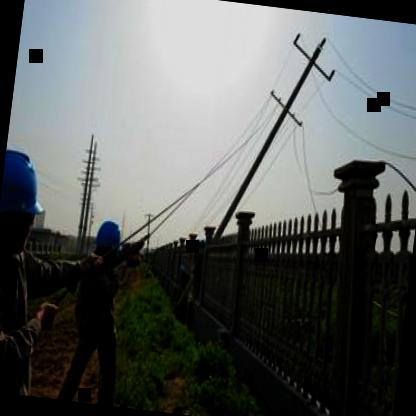helmet: (0, 136, 54, 272), (90, 216, 126, 270)
